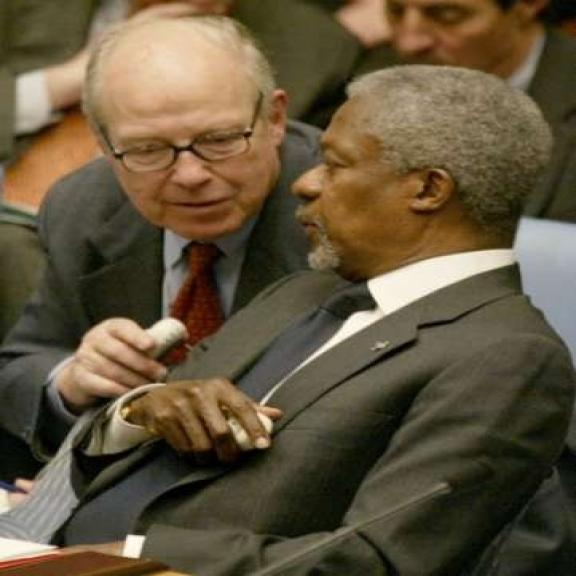face: (282, 66, 558, 278), (84, 25, 289, 243), (380, 0, 543, 72)
